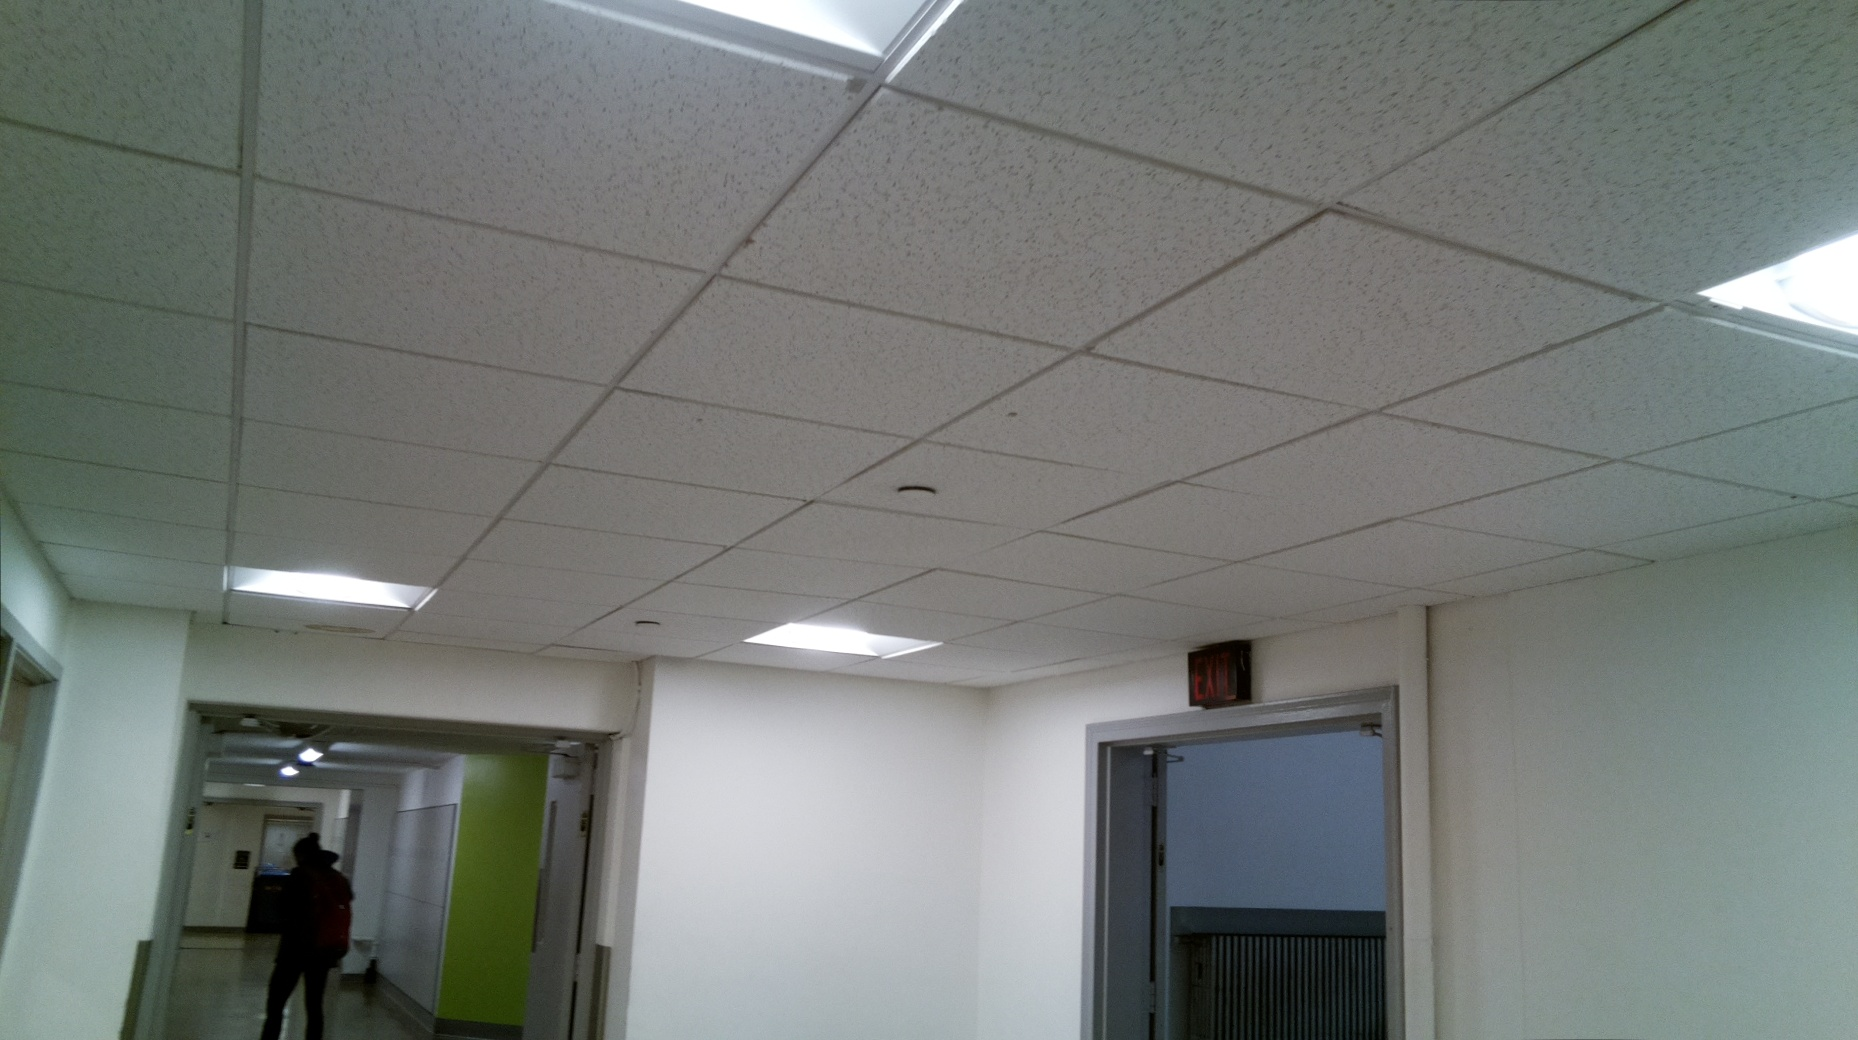exit sign: (1187, 642, 1252, 708)
